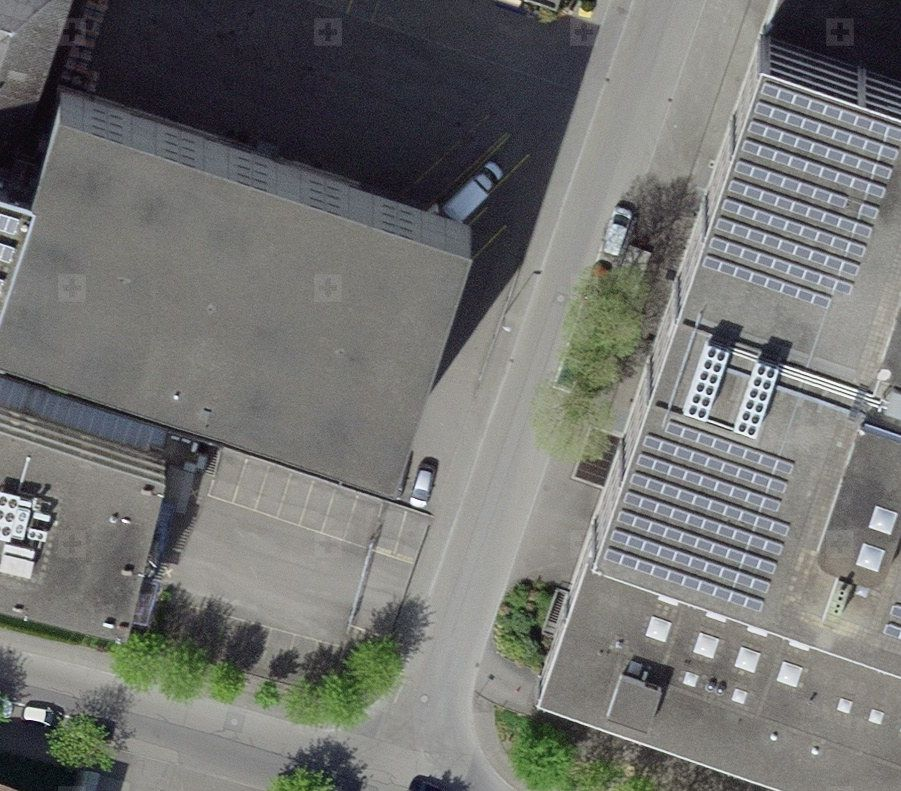solar: (702, 82, 901, 312), (598, 420, 794, 617)
